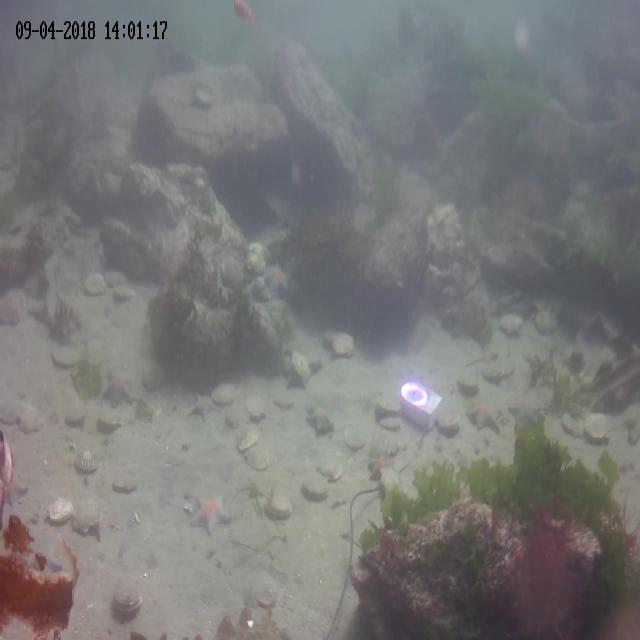scallop: (242, 567, 276, 611), (110, 574, 144, 612), (74, 493, 102, 535), (50, 338, 85, 368), (561, 407, 591, 439), (484, 358, 516, 386), (18, 397, 42, 434), (375, 388, 404, 418), (588, 408, 612, 444), (112, 464, 140, 494), (45, 494, 73, 524), (266, 489, 292, 521), (97, 407, 131, 431), (300, 474, 327, 504), (0, 387, 22, 423), (499, 310, 524, 340), (64, 398, 88, 429), (344, 422, 372, 448), (332, 329, 357, 358), (211, 379, 237, 406), (75, 448, 101, 475), (85, 268, 108, 298), (236, 425, 260, 453), (436, 409, 460, 436), (316, 455, 340, 482), (270, 388, 296, 412), (225, 404, 248, 429), (536, 306, 558, 332), (456, 370, 479, 394), (248, 393, 266, 420), (381, 412, 401, 434)
starfish: (189, 493, 231, 533), (511, 393, 547, 435), (466, 396, 503, 434), (0, 464, 27, 508), (105, 368, 133, 409), (264, 257, 292, 295), (306, 403, 336, 437), (189, 389, 216, 423), (368, 452, 395, 482)
